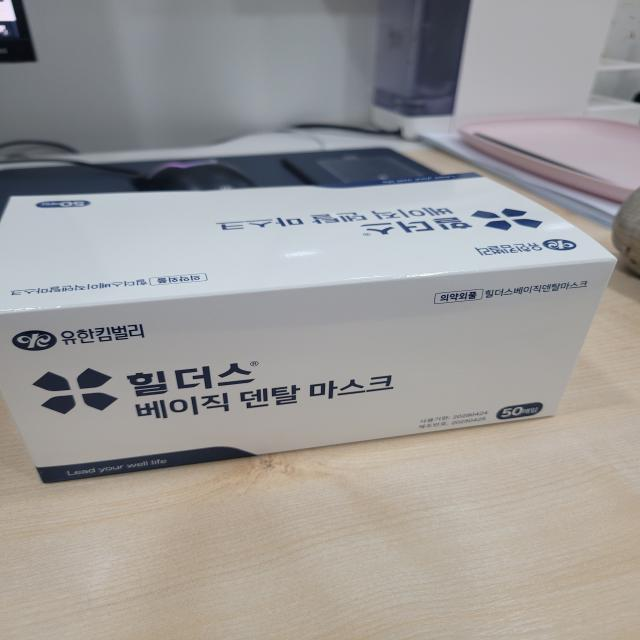mask: (0, 157, 623, 473)
